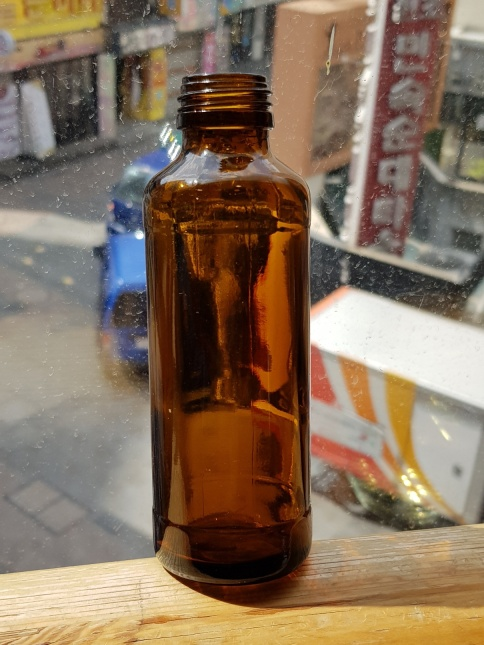Glass: (141, 70, 321, 588)
